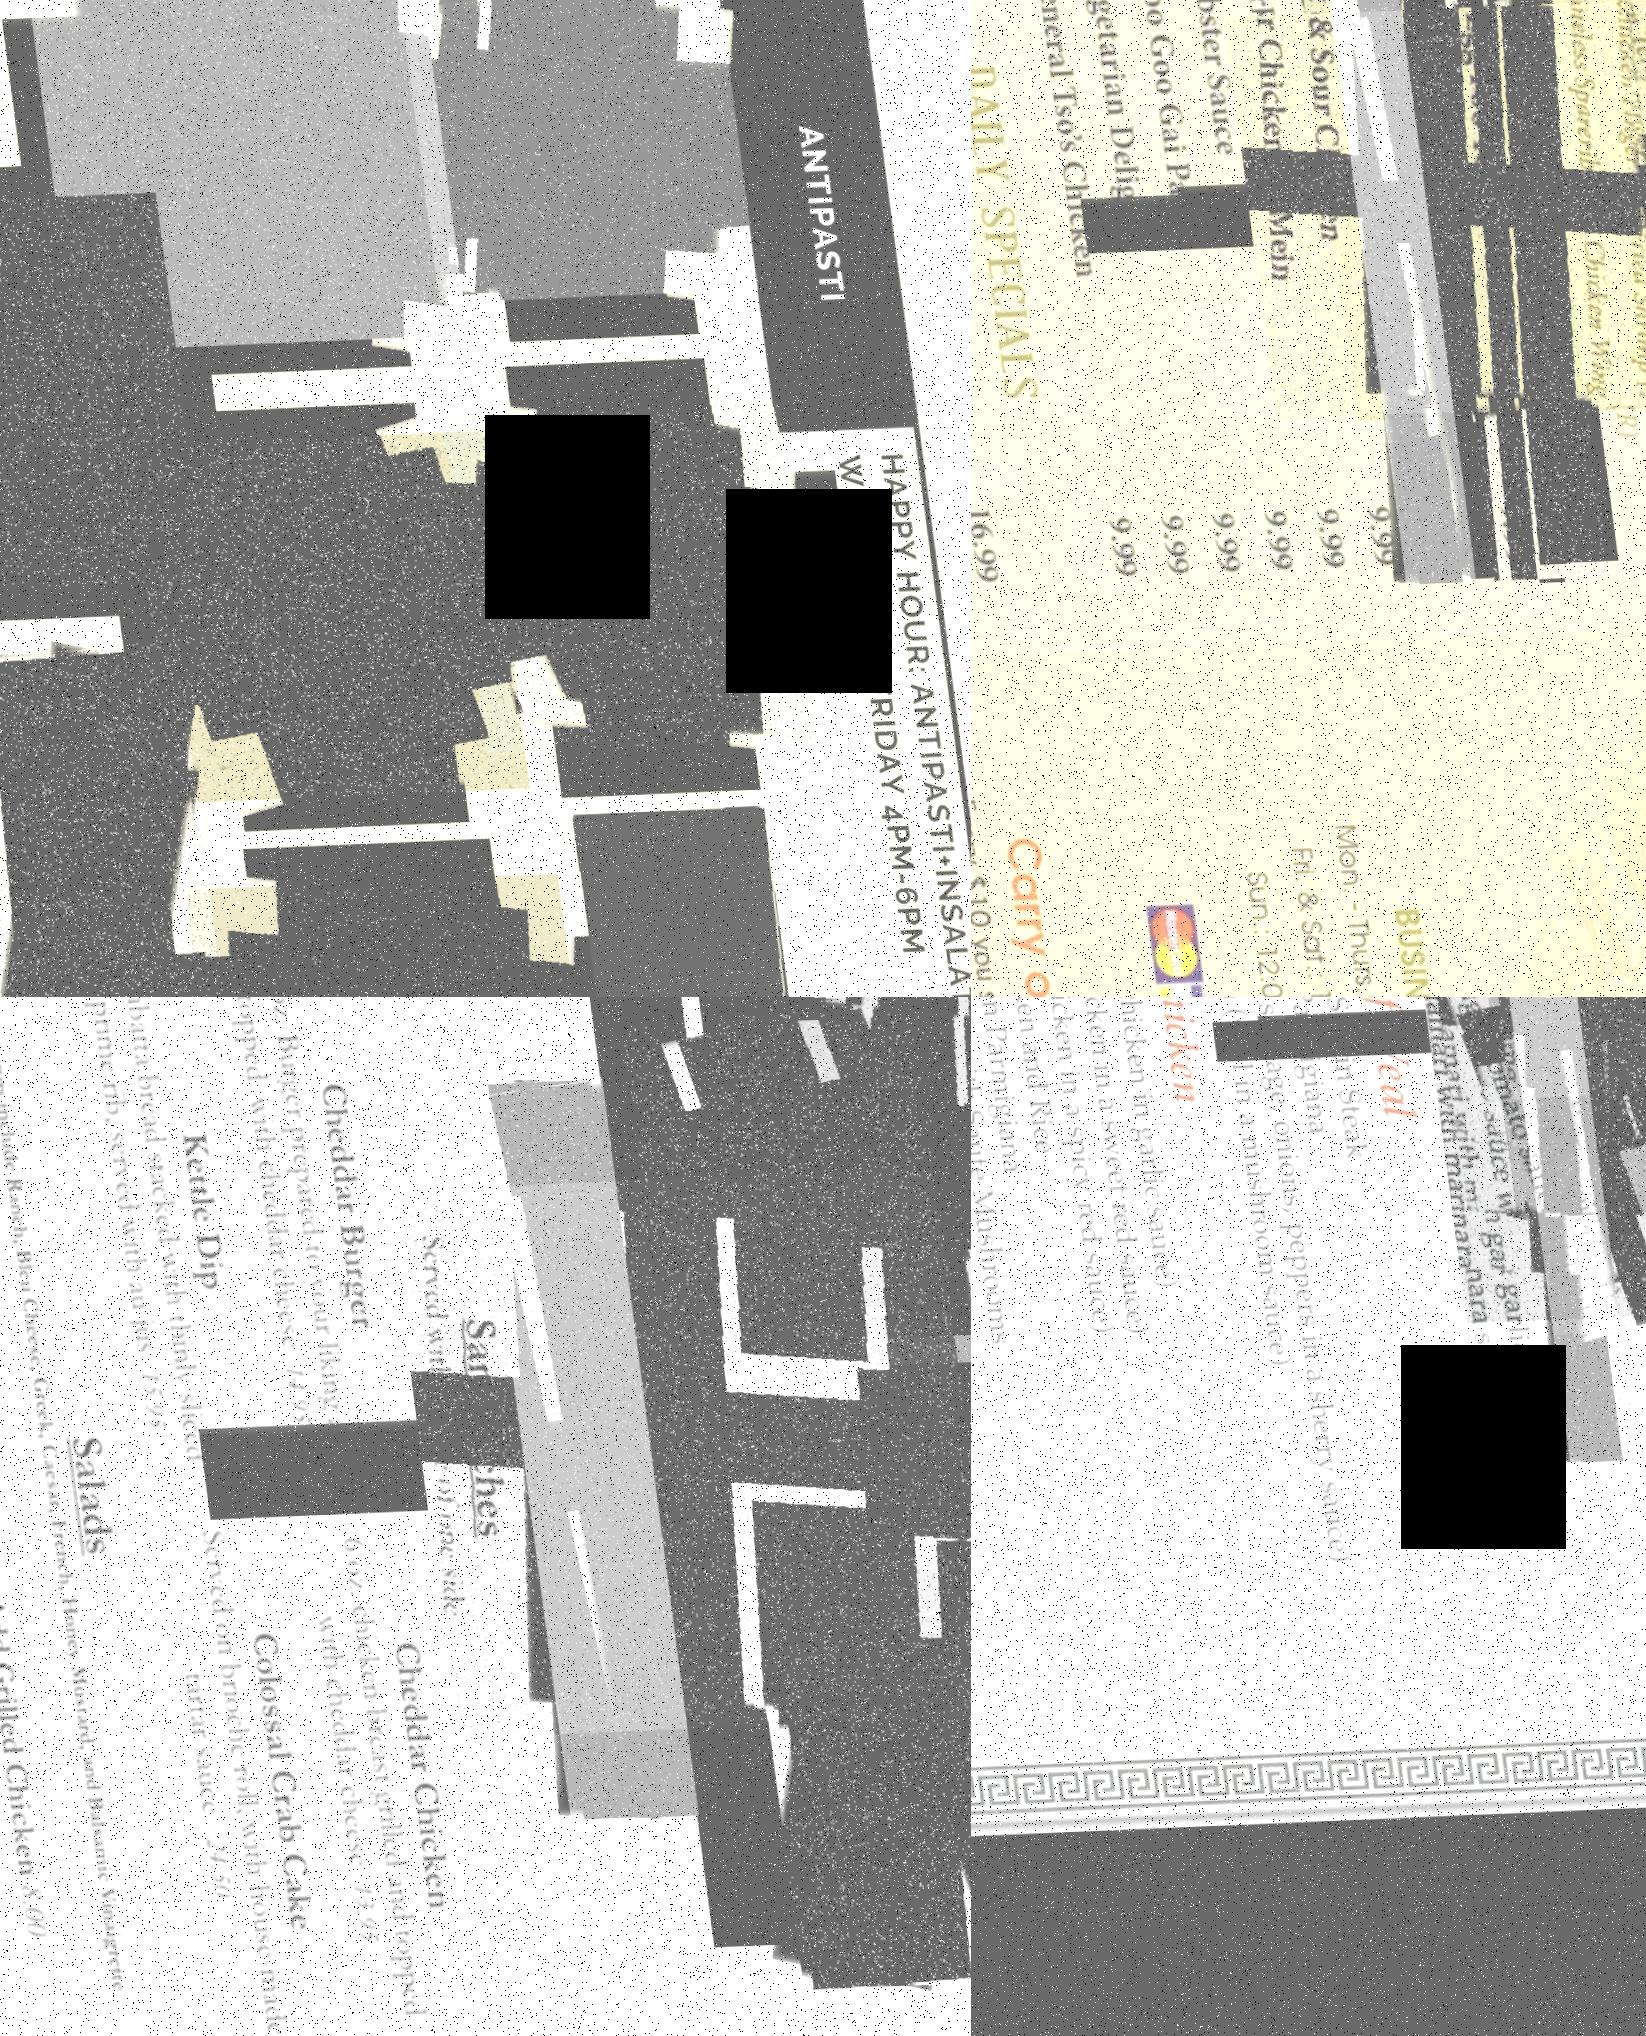Menu-Items: (368, 1168, 971, 1739), (1213, 2, 1646, 420), (460, 1078, 670, 1821), (13, 0, 452, 353), (1292, 0, 1646, 422), (109, 432, 506, 805), (423, 403, 799, 756), (717, 1500, 971, 1991), (1391, 0, 1587, 581), (386, 0, 742, 304), (116, 1503, 311, 2036), (1166, 996, 1332, 1591), (275, 1503, 457, 2036), (608, 1016, 927, 1317), (700, 996, 971, 1346), (59, 996, 245, 1492), (1372, 996, 1646, 1324), (1302, 0, 1455, 585), (207, 996, 391, 1470), (1105, 0, 1238, 591), (1441, 996, 1607, 1463), (998, 0, 1129, 590), (0, 642, 213, 996), (1056, 0, 1184, 588), (0, 193, 185, 596), (1208, 0, 1335, 568), (1263, 0, 1386, 569), (1162, 0, 1276, 576), (799, 996, 971, 1367), (1392, 996, 1646, 1240), (1350, 996, 1486, 1430), (156, 874, 573, 996), (544, 808, 789, 996), (1397, 996, 1512, 1388), (1448, 996, 1646, 1220), (1171, 996, 1271, 1384), (998, 996, 1102, 1359), (1023, 996, 1129, 1347), (867, 1557, 971, 1912), (1063, 996, 1161, 1307), (1449, 996, 1540, 1277), (1470, 996, 1646, 1100), (1287, 996, 1355, 1181), (1555, 996, 1641, 1141), (1250, 996, 1315, 1164), (979, 996, 1043, 1164), (971, 996, 1003, 1184)
